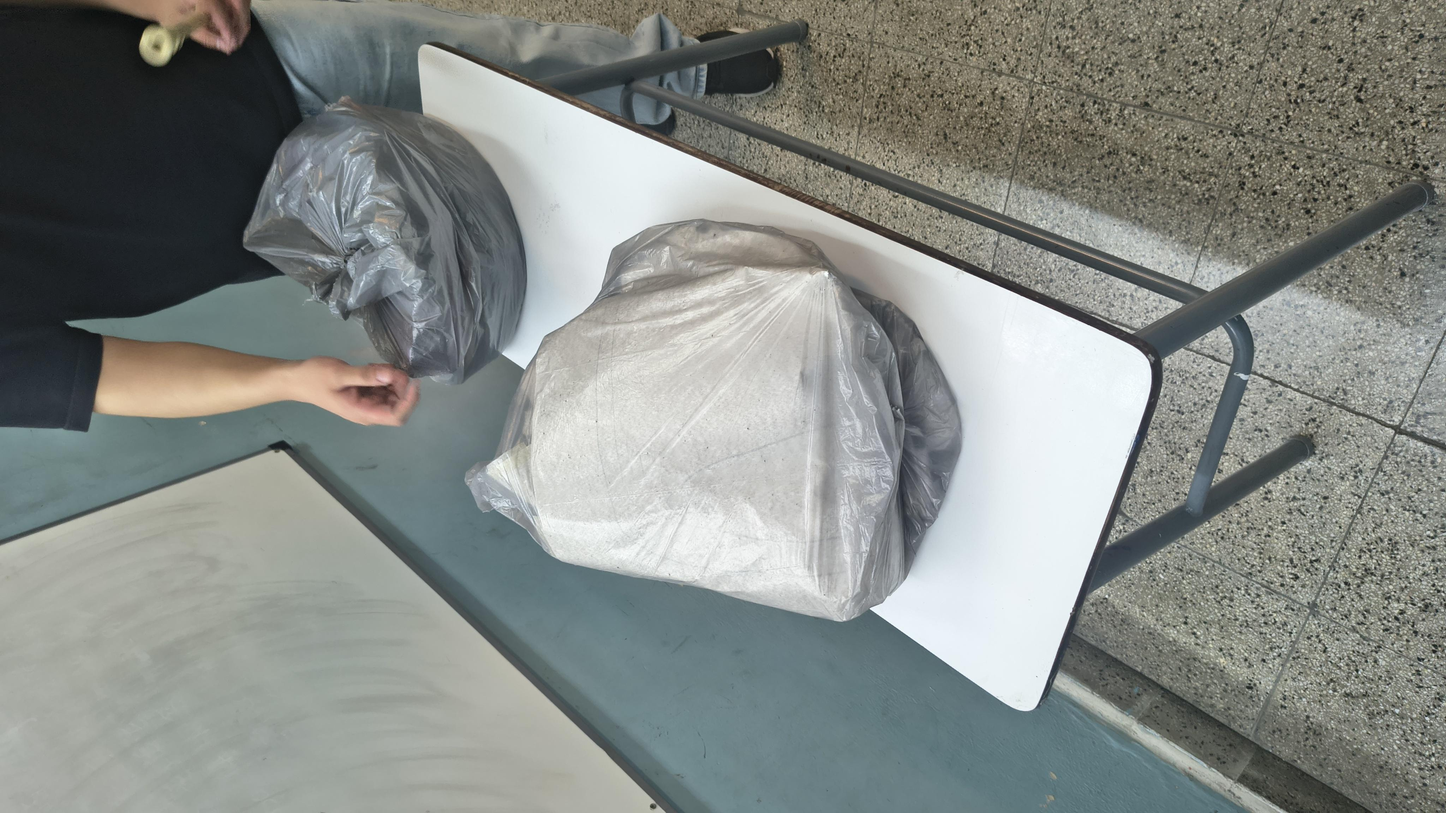Garbage: (345, 252, 1105, 548), (653, 131, 1312, 300)
